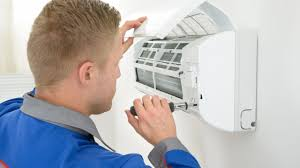ac: (128, 1, 263, 135)
